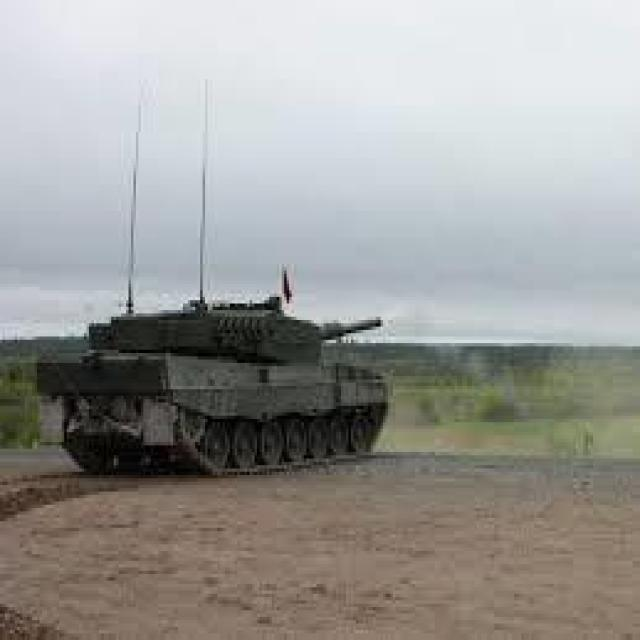Tanks: (32, 262, 391, 473)
